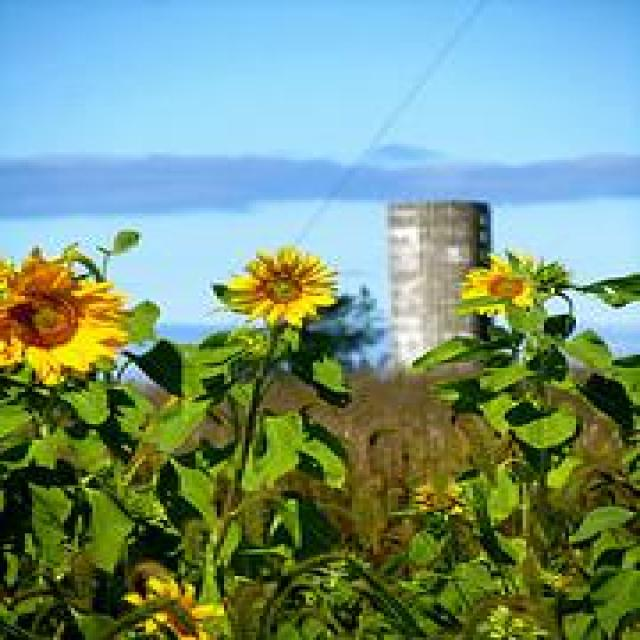sunflower: (0, 248, 142, 383), (224, 247, 334, 329), (459, 252, 537, 305)
